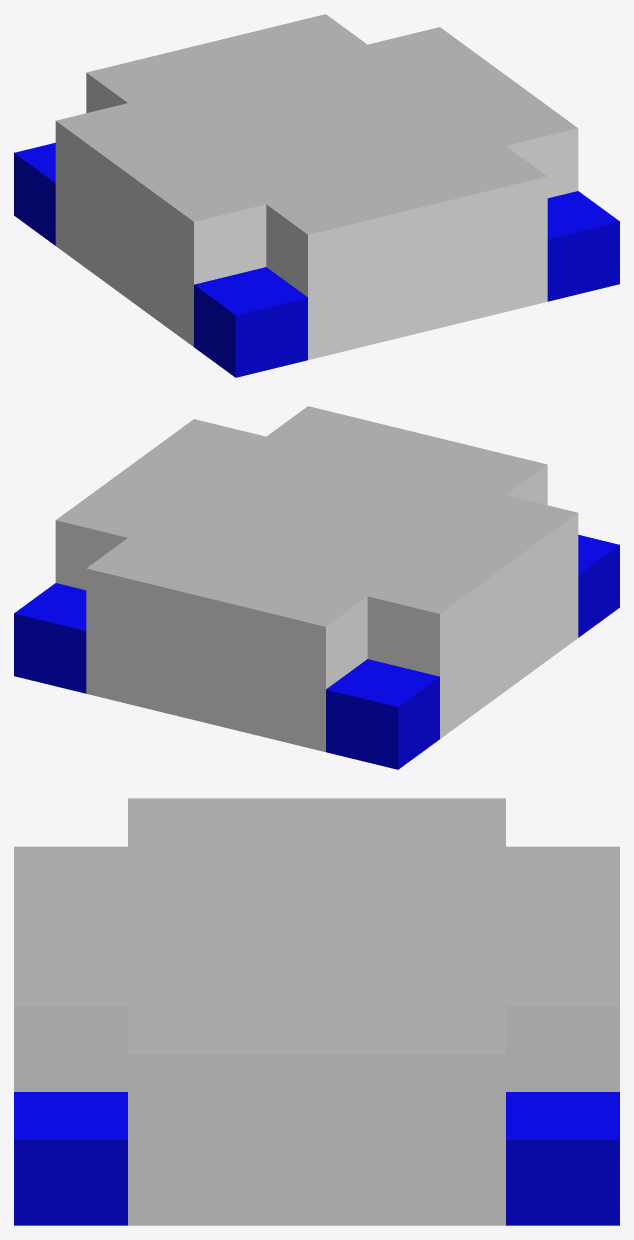
The model's file is sectionedRoomBlockOut.fbx.
The picture shows the model from 3 angles, top to bottom: view 1: azimuth 30°, elevation 25°; view 2: azimuth 150°, elevation 25°; view 3: azimuth 270°, elevation 25°; orthographic projection. The views are drawn at different scales.
Visible parts, largest first — view 1: basic_room, bedroom3, bedroom4, bedroom2; view 2: basic_room, bedroom2, bedroom1, bedroom3; view 3: basic_room, bedroom1, bedroom4.
Boxes of the visible parts, x1=… form: basic_room: x1=55, y1=14, x2=578, y2=360; bedroom3: x1=194, y1=267, x2=307, y2=377; bedroom4: x1=547, y1=191, x2=619, y2=301; bedroom2: x1=14, y1=142, x2=55, y2=245; basic_room: x1=55, y1=406, x2=578, y2=752; bedroom2: x1=326, y1=659, x2=439, y2=769; bedroom1: x1=14, y1=583, x2=86, y2=693; bedroom3: x1=578, y1=534, x2=619, y2=637; basic_room: x1=14, y1=798, x2=619, y2=1225; bedroom1: x1=506, y1=1092, x2=619, y2=1225; bedroom4: x1=14, y1=1092, x2=127, y2=1225.
Size of the model in its own units: 54 by 16.84 by 54.
